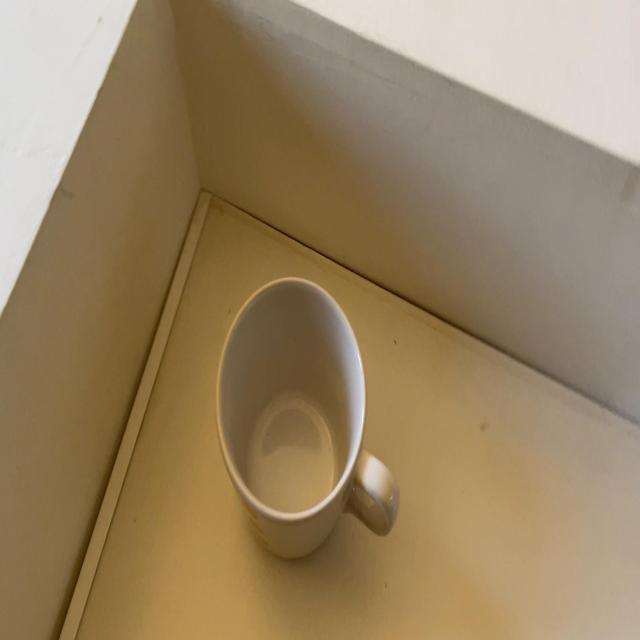cup: (215, 272, 398, 563)
